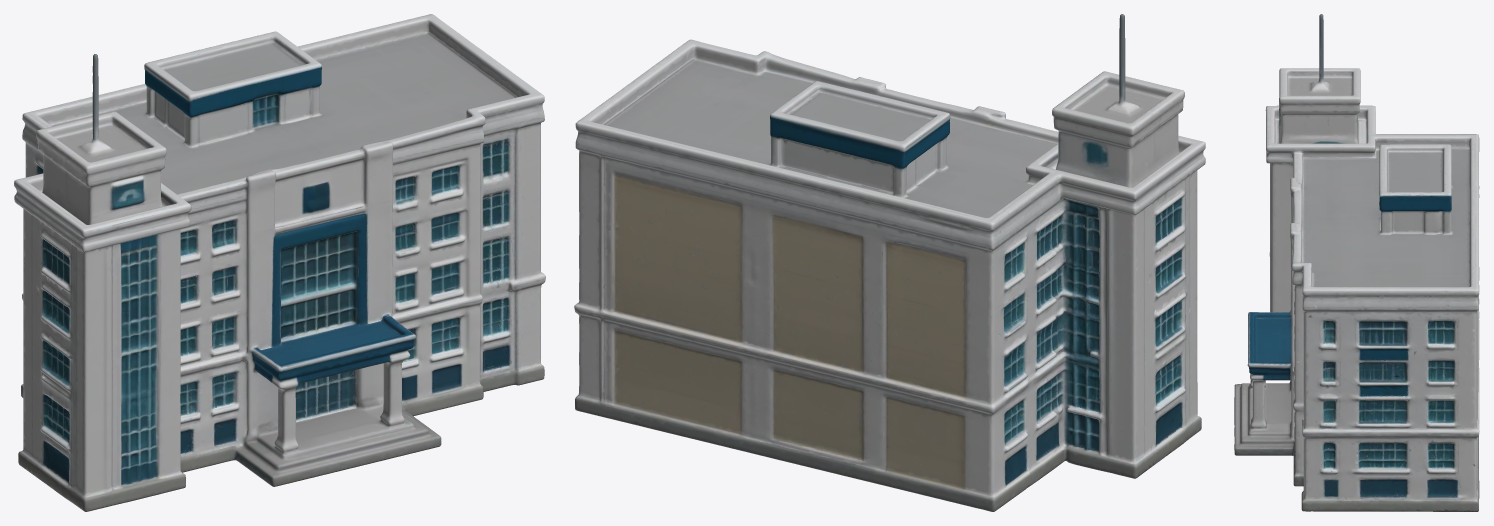
The model's file is rsud.optimized.glb.
3 views of the same model, side by side, from view 1: azimuth 30°, elevation 25°; view 2: azimuth 150°, elevation 25°; view 3: azimuth 270°, elevation 25° (orthographic). The views are drawn at different scales.
Parts seen in each view (by area): view 1: geometry_0; view 2: geometry_0; view 3: geometry_0.
Boxes of the visible parts, bbox=[...] form: geometry_0: bbox=[14, 14, 545, 511]; geometry_0: bbox=[574, 14, 1205, 511]; geometry_0: bbox=[1234, 14, 1479, 511].
Size of the model in its own units: 1 by 0.832 by 0.5578.
Materials: 1 (1 with a texture image).
